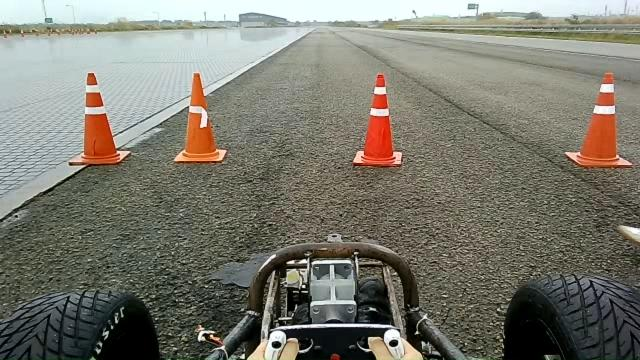red cone: (564, 71, 633, 168), (68, 71, 131, 165), (173, 71, 227, 163), (352, 72, 403, 167)
